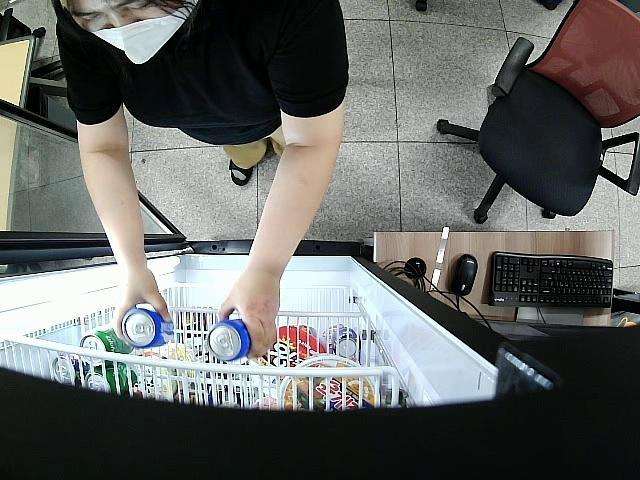13_pocariSweat: (121, 306, 176, 348), (206, 318, 252, 360)
